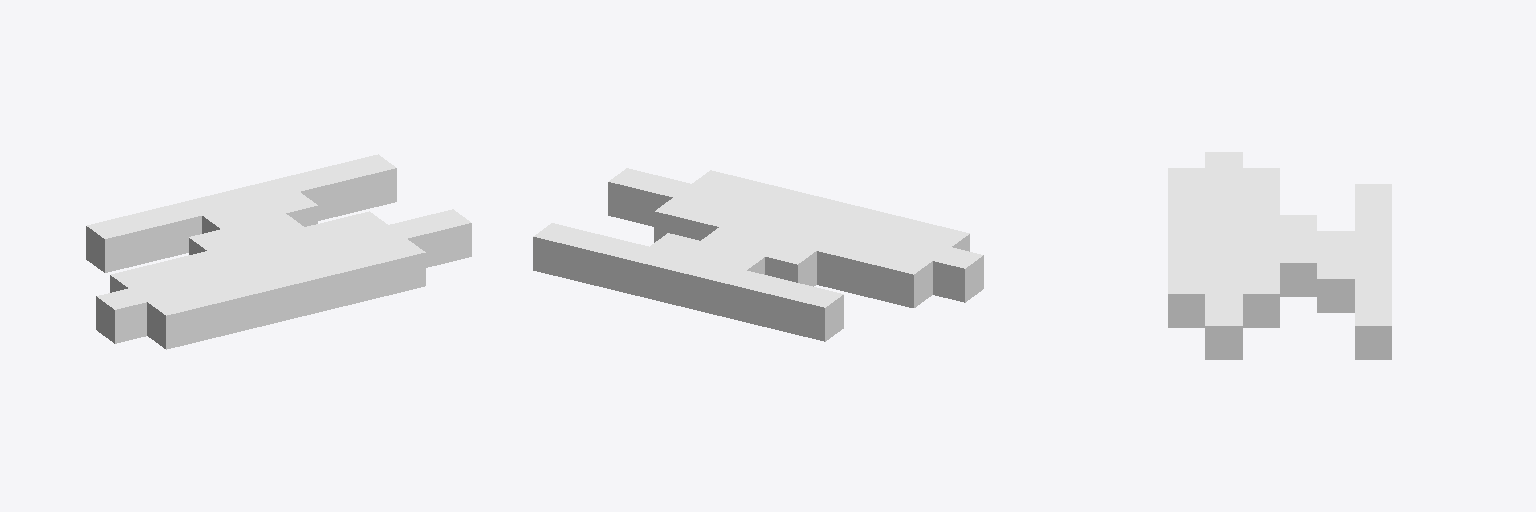
The model's file is PlayerShip-1.obj.
3 views of the same model, side by side, from view 1: azimuth 30°, elevation 25°; view 2: azimuth 150°, elevation 25°; view 3: azimuth 270°, elevation 25° (orthographic).
Visible parts, largest first — view 1: object 1; view 2: object 1; view 3: object 1.
Part boxes in pixels (x1,y1,x2,y2): object 1: (86, 154, 471, 349); object 1: (533, 168, 983, 341); object 1: (1168, 152, 1391, 359).
Bounding box in the file's own units: 1.1 × 0.1 × 0.6.